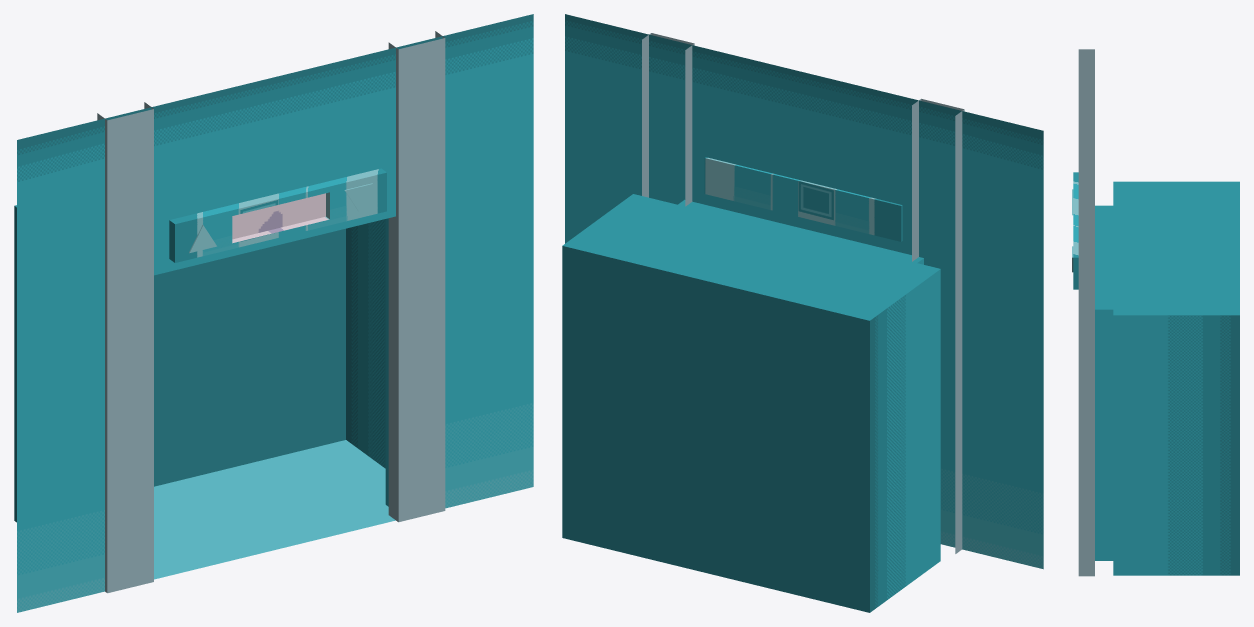
Rendered from SM_SOL_environment_elevator.fbx.
3 views of the same model, side by side, from view 1: azimuth 30°, elevation 25°; view 2: azimuth 150°, elevation 25°; view 3: azimuth 270°, elevation 25° (orthographic). The views are drawn at different scales.
Visible parts, largest first — view 1: SM_vertical_beam; view 2: SM_vertical_beam; view 3: SM_vertical_beam.
Boxes of the visible parts, box(x1,y1,x2,y2) form: SM_vertical_beam: box(14, 14, 533, 612); SM_vertical_beam: box(562, 14, 1043, 612); SM_vertical_beam: box(1072, 49, 1239, 576).
Bounding box in the file's own units: 800 × 700 × 272.
